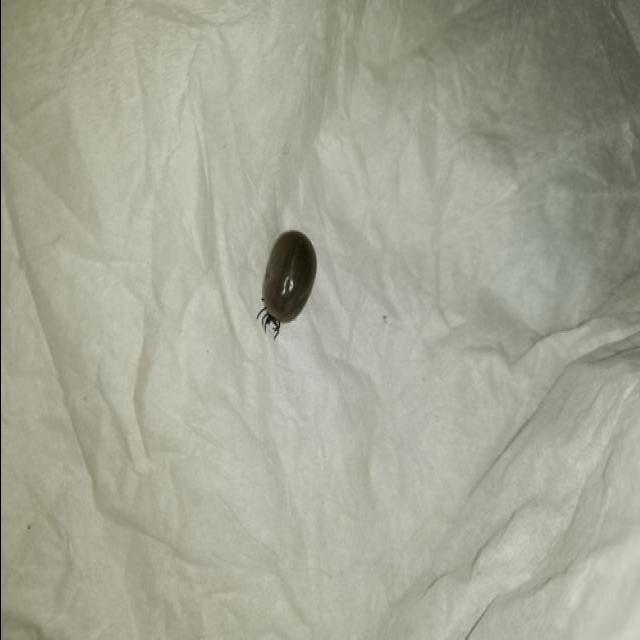Ixodes Ricinus-F-Fed: (255, 229, 317, 336)
